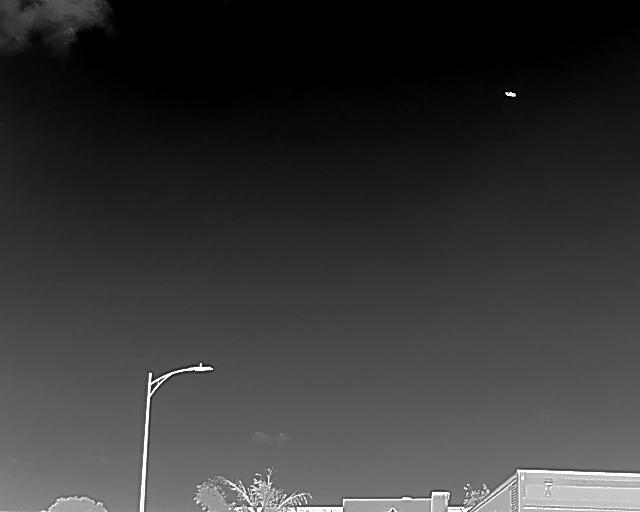fpv-drone: (504, 90, 516, 97)
